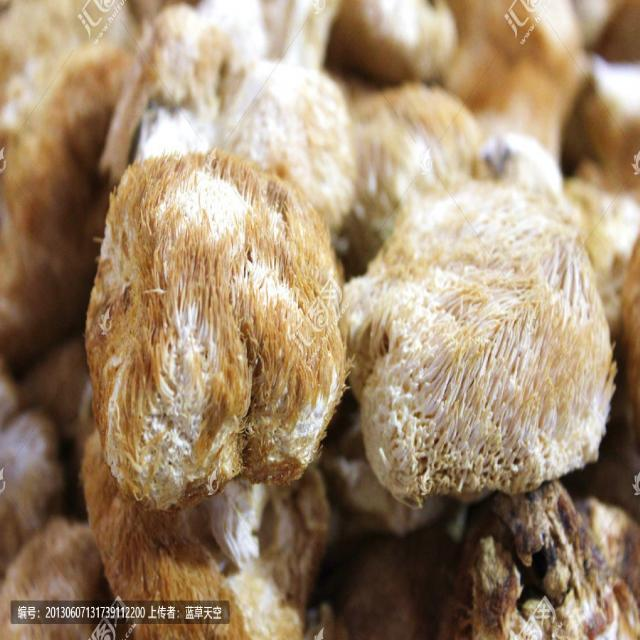Hericium erinaceus: (86, 154, 345, 507), (346, 189, 613, 507), (230, 52, 355, 215), (351, 84, 475, 224)
